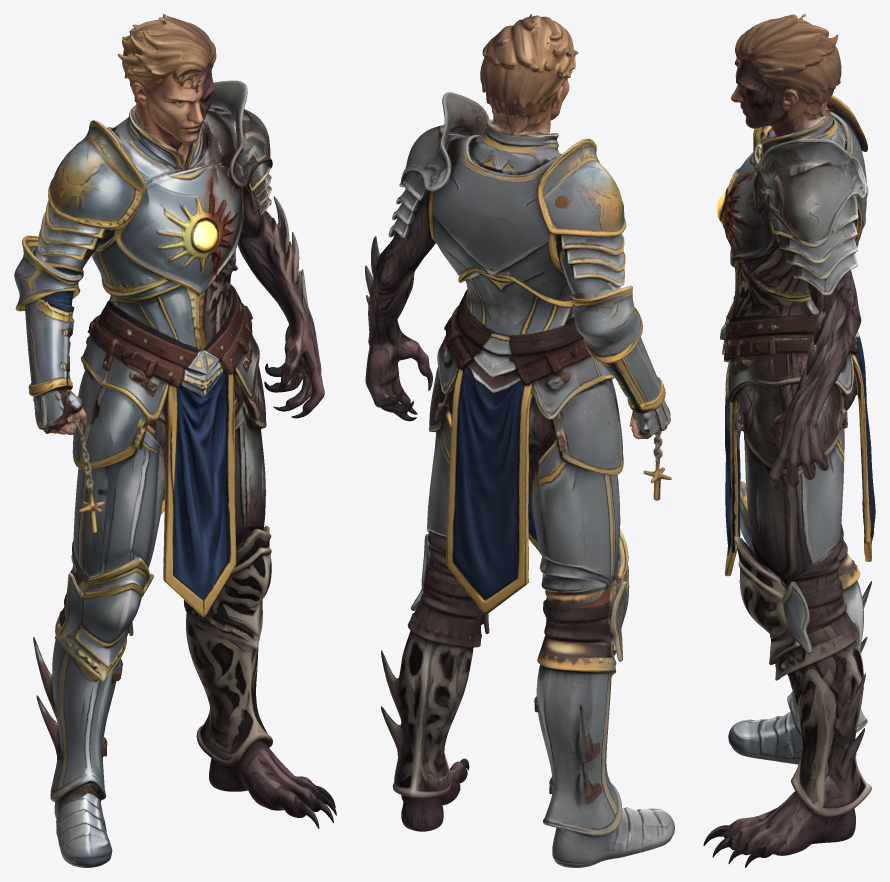
Rendered from eron.glb.
3 renders of one model, left to right at view 1: azimuth 30°, elevation 25°; view 2: azimuth 150°, elevation 25°; view 3: azimuth 270°, elevation 25°, orthographic. The views are drawn at different scales.
Bounding box in the file's own units: 0.0557 × 0.15 × 0.0299.
1 material, 1 textured.
